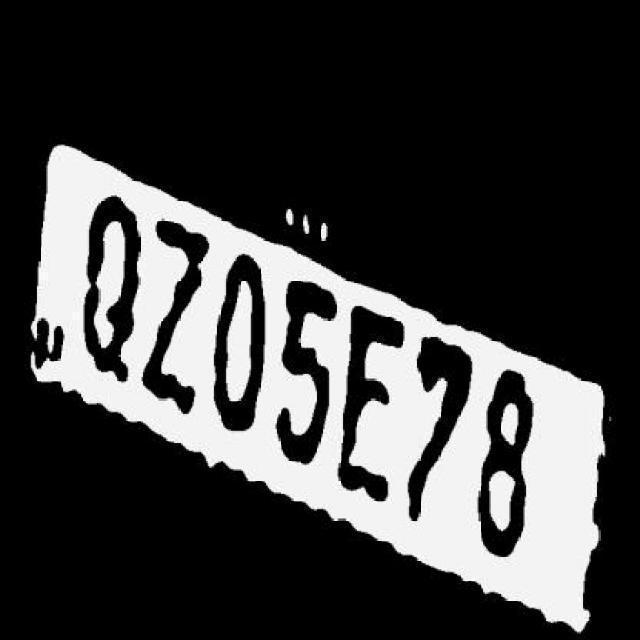5: (269, 275, 346, 480)
7: (402, 336, 489, 524)
8: (473, 367, 550, 562)
e: (339, 304, 416, 504)
o: (212, 246, 270, 440)
q: (81, 191, 140, 386)
z: (142, 212, 210, 426)
